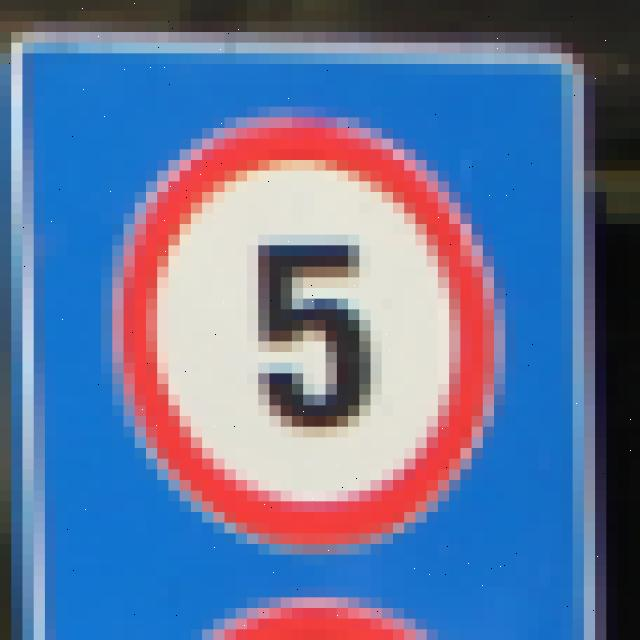speed limit 10: (111, 115, 495, 552)
